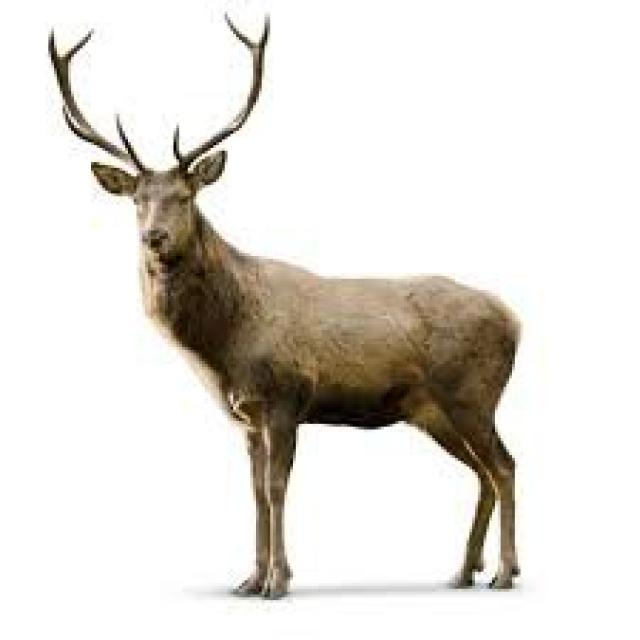Deer: (45, 1, 544, 610)
